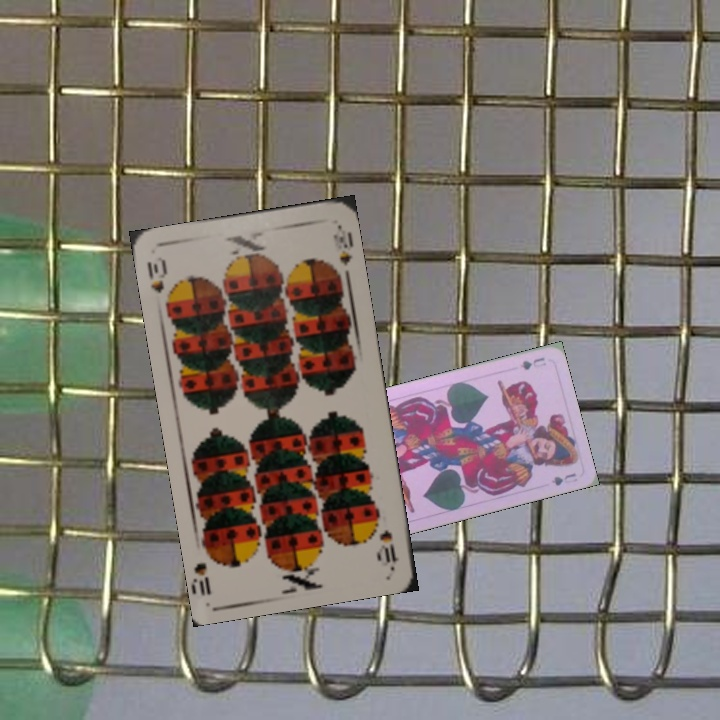GU: (516, 353, 549, 373)
S10: (143, 252, 175, 311), (375, 526, 401, 565)
